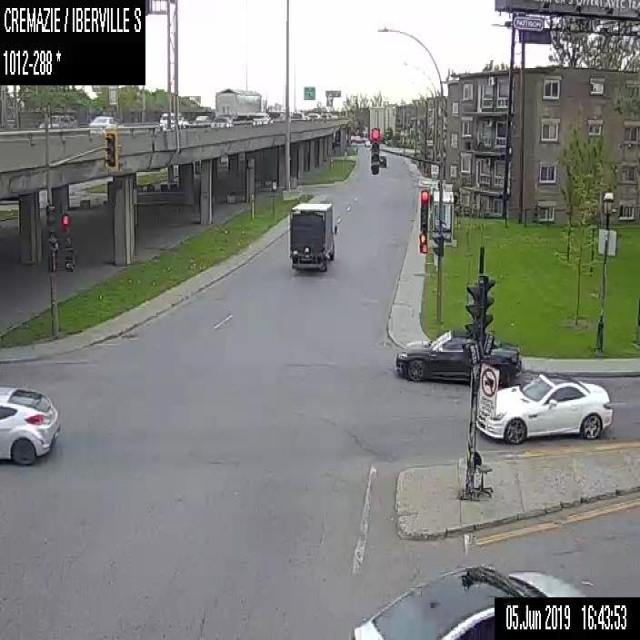vehicle: (351, 564, 584, 639), (475, 371, 611, 446), (393, 326, 521, 384), (0, 383, 58, 464), (288, 198, 336, 270), (215, 87, 268, 119), (39, 112, 76, 128), (86, 112, 123, 128), (159, 109, 187, 129), (210, 113, 232, 127), (192, 112, 212, 127), (252, 111, 272, 124), (290, 111, 307, 120), (378, 155, 387, 169), (306, 111, 320, 119), (320, 112, 332, 118), (354, 134, 361, 141), (364, 139, 370, 146), (350, 134, 354, 142)
